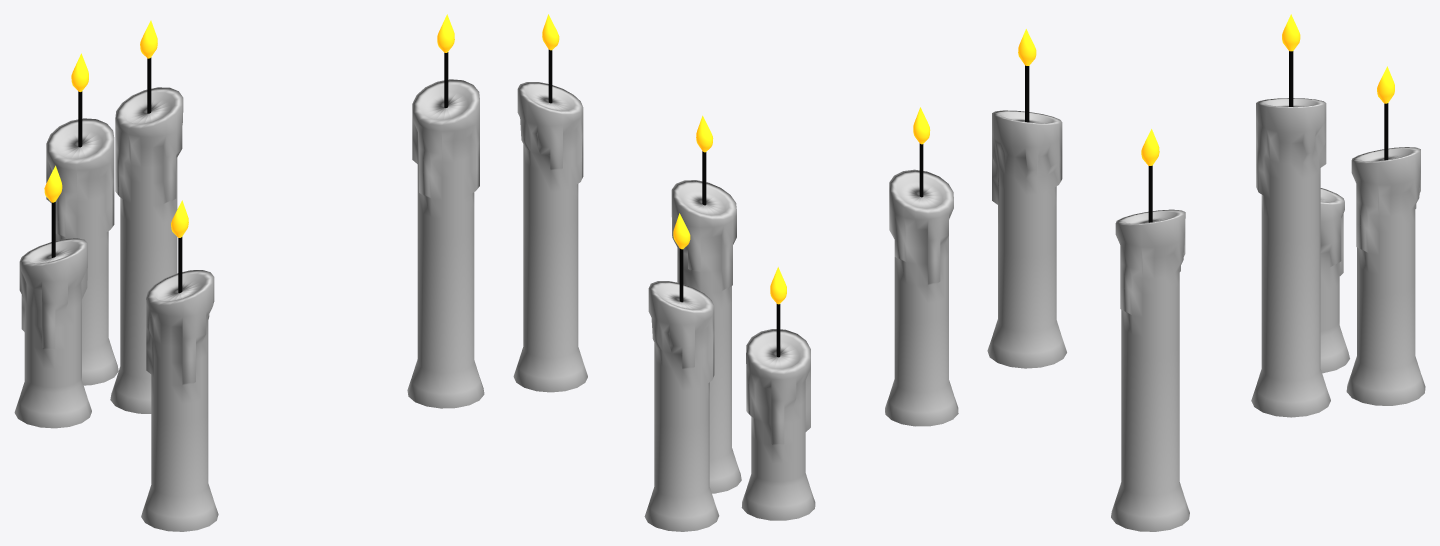
Rendered from Candles.fbx.
3 renders of one model, left to right at view 1: azimuth 30°, elevation 25°; view 2: azimuth 150°, elevation 25°; view 3: azimuth 270°, elevation 25°, orthographic. The views are drawn at different scales.
Parts seen in each view (by area): view 1: candles.001; view 2: candles.001; view 3: candles.001.
Boxes of the visible parts, left/top/right/bottom form: candles.001: left=14, top=14, right=484, bottom=531; candles.001: left=513, top=14, right=958, bottom=531; candles.001: left=987, top=14, right=1425, bottom=531.
Bounding box in the file's own units: 28.95 × 26.56 × 27.2.
